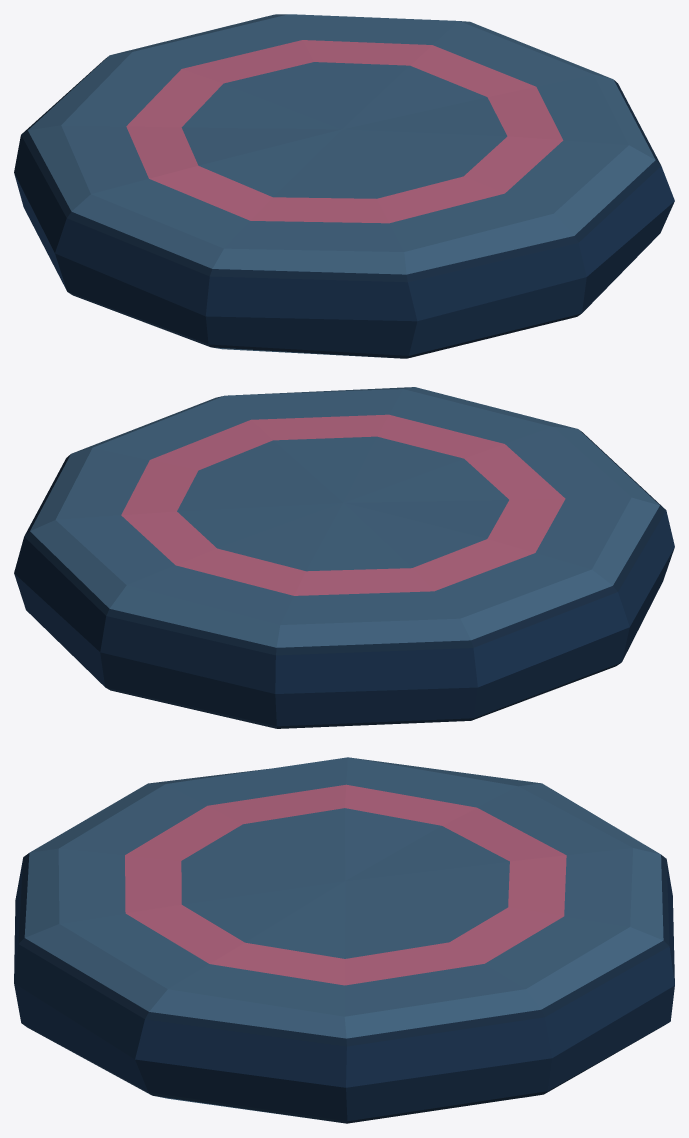
Rendered from SM_Prop_Pillow_14.fbx.
The picture shows the model from 3 angles, top to bottom: view 1: azimuth 30°, elevation 25°; view 2: azimuth 150°, elevation 25°; view 3: azimuth 270°, elevation 25°; orthographic projection. The views are drawn at different scales.
Visible parts, largest first — view 1: SM_Prop_Pillow_14; view 2: SM_Prop_Pillow_14; view 3: SM_Prop_Pillow_14.
Boxes of the visible parts, left/top/right/bottom form: SM_Prop_Pillow_14: left=14, top=14, right=674, bottom=358; SM_Prop_Pillow_14: left=14, top=387, right=674, bottom=728; SM_Prop_Pillow_14: left=14, top=757, right=674, bottom=1123.
Bounding box in the file's own units: 0.6863 × 0.1302 × 0.6537.
1 material, 1 textured.
